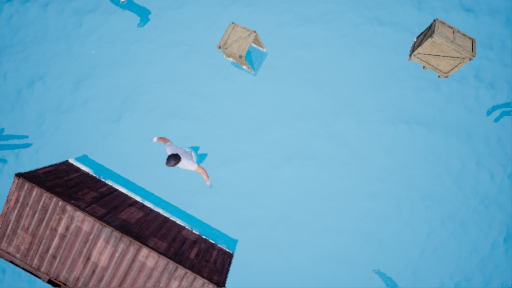person: (145, 134, 223, 188)
